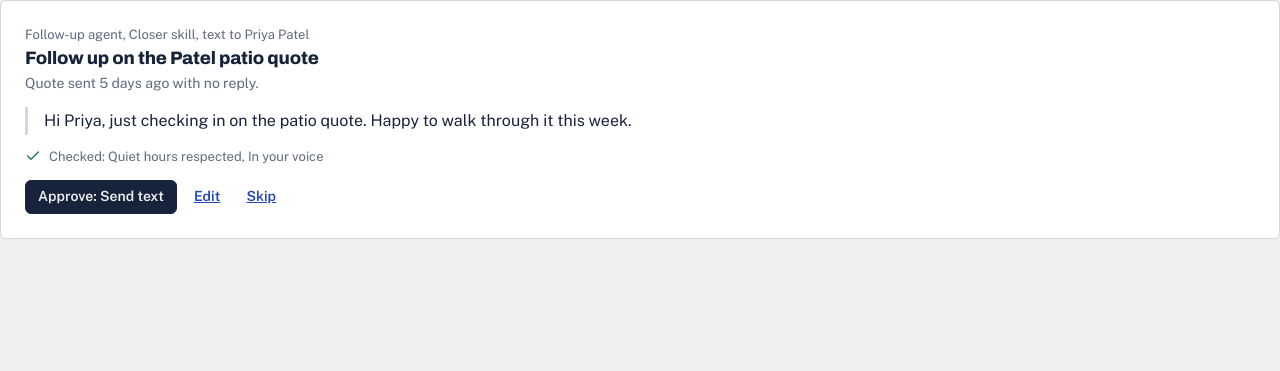
AgentCard › lets the owner edit the draft, then approves the edited text
Later steps or results of the test are not shown.
Click the button "Edit". click: (207, 197)
box: [185,182,229,212]
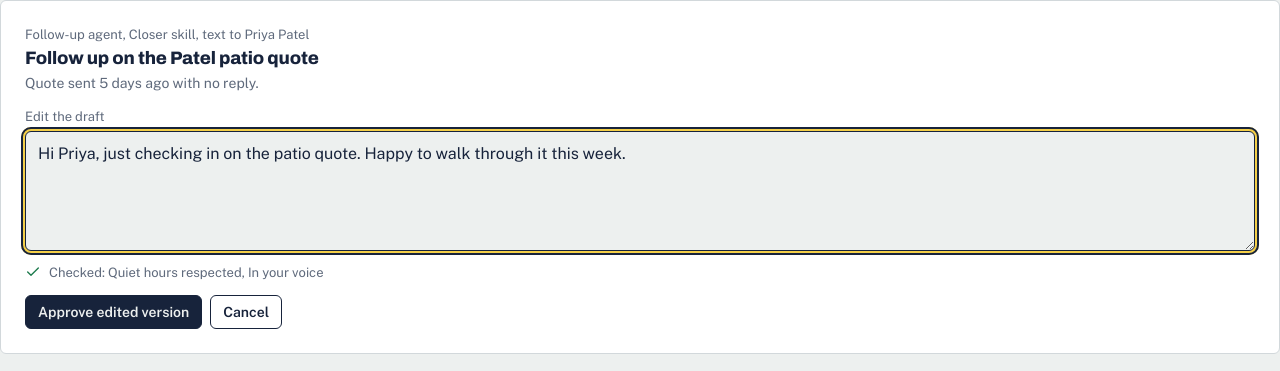
Now the text box labelled "Edit the draft" holds "Hi Priya, just checking in on the patio quote. Happy to walk through it this week.", box [25,131,1255,251]
